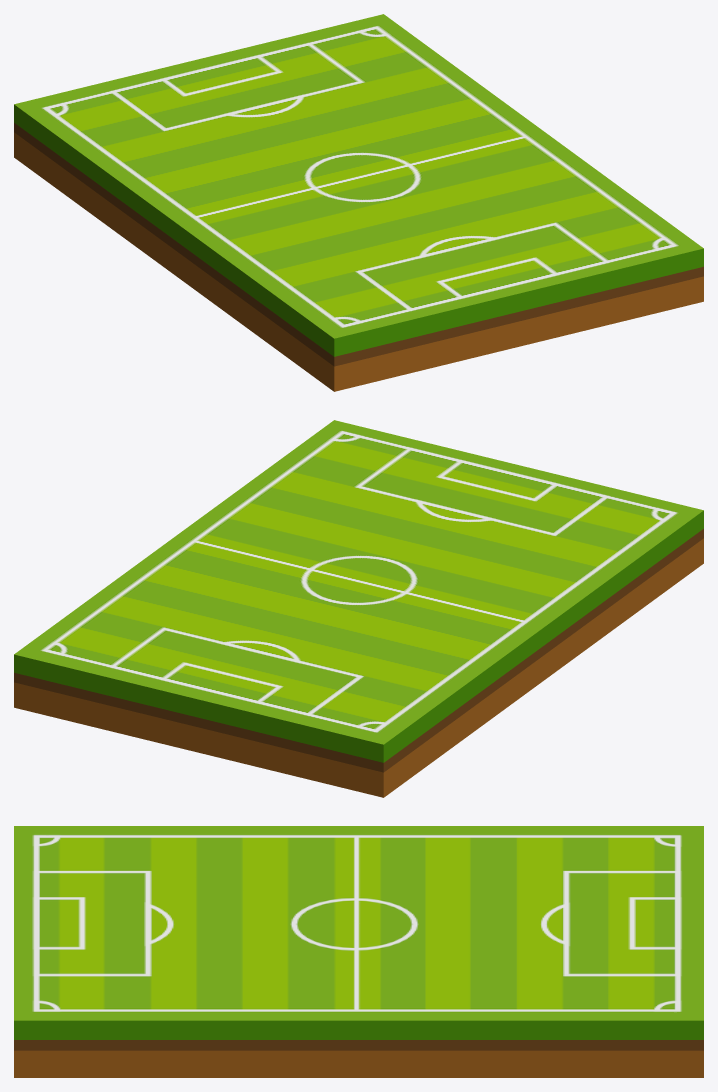
File: football_field.0b6176e5.glb
The picture shows the model from 3 angles, top to bottom: view 1: azimuth 30°, elevation 25°; view 2: azimuth 150°, elevation 25°; view 3: azimuth 270°, elevation 25°; orthographic projection. The views are drawn at different scales.
Visible parts, largest first — view 1: Cube; view 2: Cube; view 3: Cube.
Boxes of the visible parts, x1,y1,x2,y2 form: Cube: (14,14,703,391); Cube: (14,420,703,797); Cube: (14,826,703,1077).
Bounding box in the file's own units: 32.89 × 4.52 × 49.33.
Materials: 5 (1 with a texture image).
